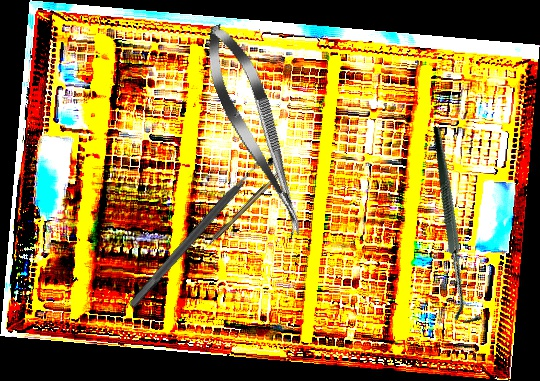Fixation Ring: (118, 140, 278, 317)
Hook Surgical: (374, 125, 539, 329), (201, 166, 286, 252)
Micro Scissor: (193, 17, 320, 244)
